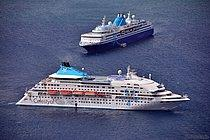Ship: (14, 56, 194, 117), (77, 8, 160, 56)
